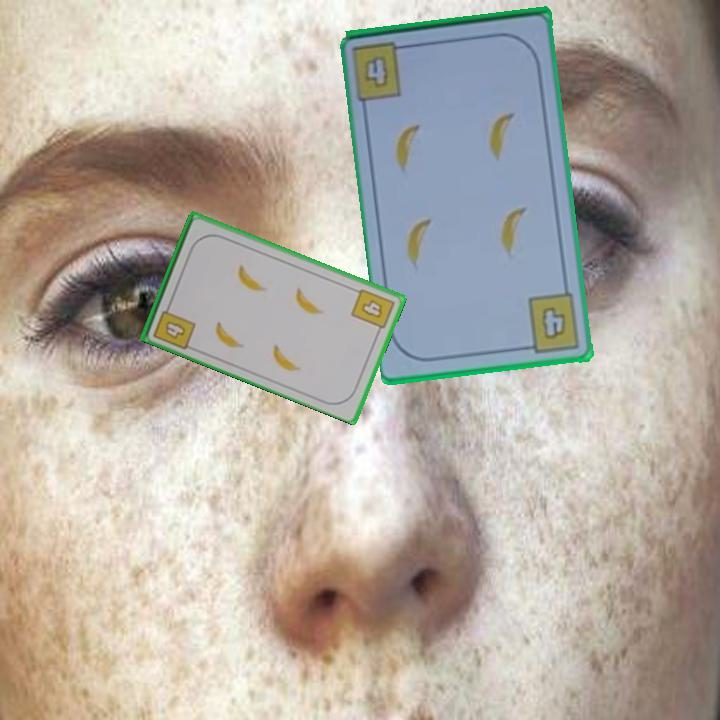4b: (519, 289, 584, 355), (347, 285, 397, 337), (149, 299, 198, 352), (361, 52, 392, 92)
